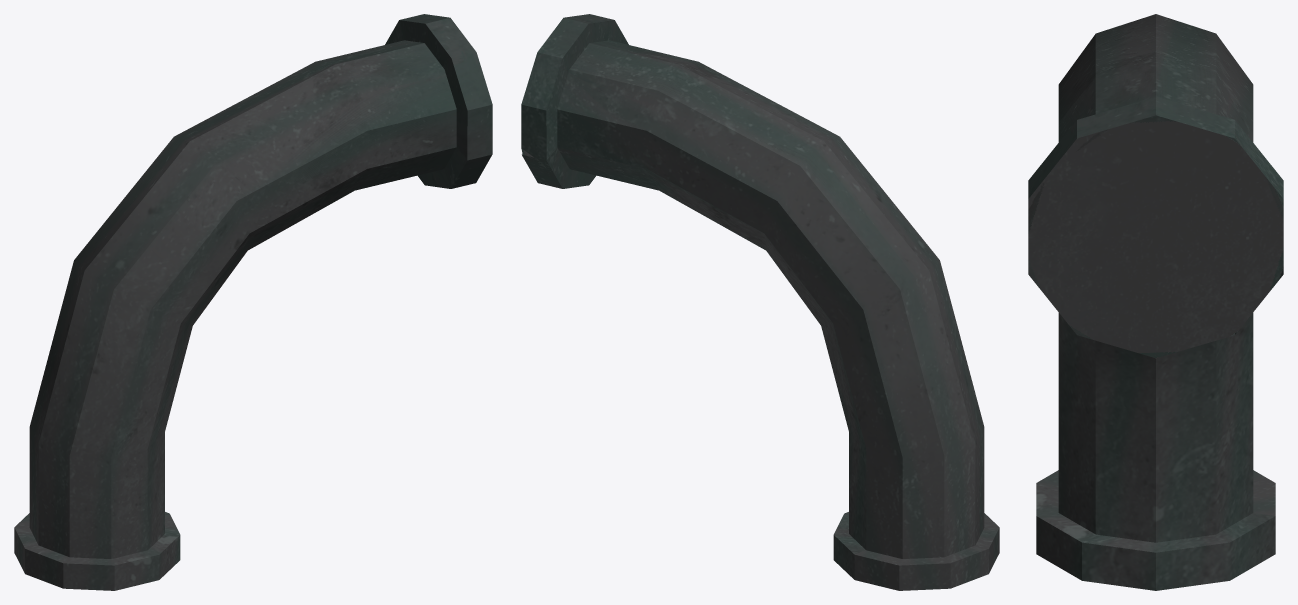
The model's file is Pipe Corner Small.fbx.
The picture shows the model from 3 angles, left to right: view 1: azimuth 30°, elevation 25°; view 2: azimuth 150°, elevation 25°; view 3: azimuth 270°, elevation 25°; orthographic projection. The views are drawn at different scales.
Visible parts, largest first — view 1: Corner_S; view 2: Corner_S; view 3: Corner_S.
Boxes of the visible parts, bbox=[...] form: Corner_S: bbox=[14, 14, 492, 590]; Corner_S: bbox=[521, 14, 999, 590]; Corner_S: bbox=[1028, 14, 1283, 590].
Bounding box in the file's own units: 4.04 × 4.11 × 1.39.
1 material, 1 textured.
